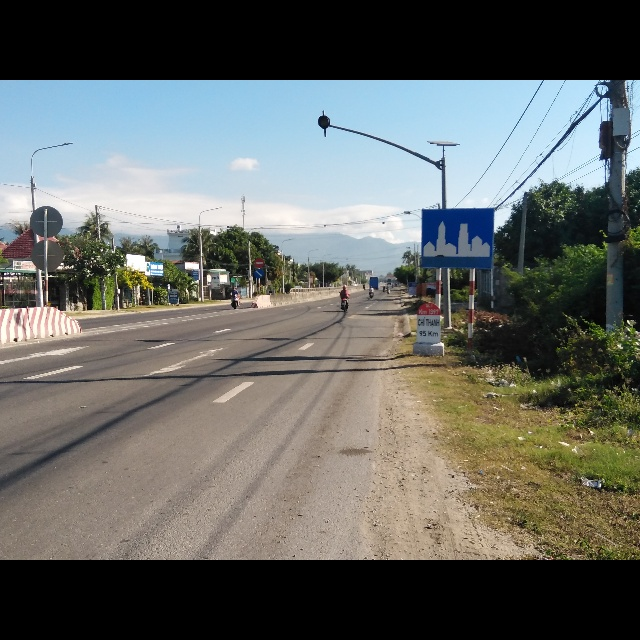Khu đông dân cư: (420, 207, 494, 269)
